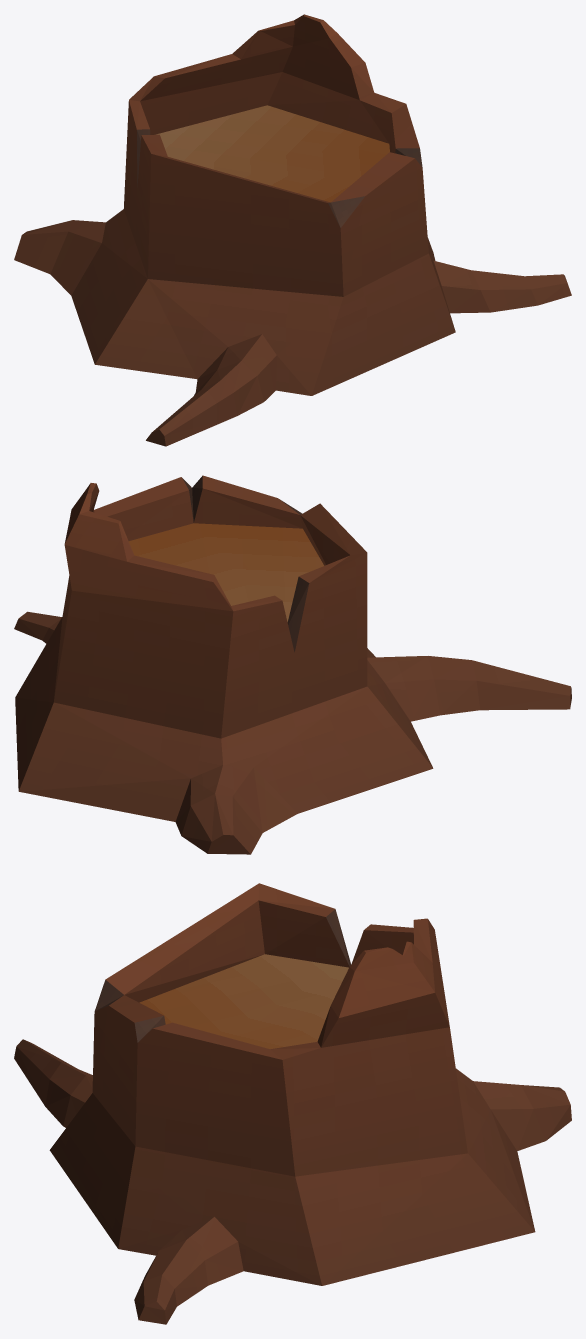
Rendered from toco.glb.
3 renders of one model, top to bottom at view 1: azimuth 30°, elevation 25°; view 2: azimuth 150°, elevation 25°; view 3: azimuth 270°, elevation 25°, orthographic. The views are drawn at different scales.
Parts seen in each view (by area): view 1: TreeStumpNormalC; view 2: TreeStumpNormalC; view 3: TreeStumpNormalC.
Boxes of the visible parts, box(x1,y1,x2,y2) form: TreeStumpNormalC: box(14, 14, 571, 446); TreeStumpNormalC: box(14, 475, 571, 854); TreeStumpNormalC: box(14, 883, 571, 1324).
Bounding box in the file's own units: 1.45 × 0.7006 × 1.26.
1 material, 1 textured.
